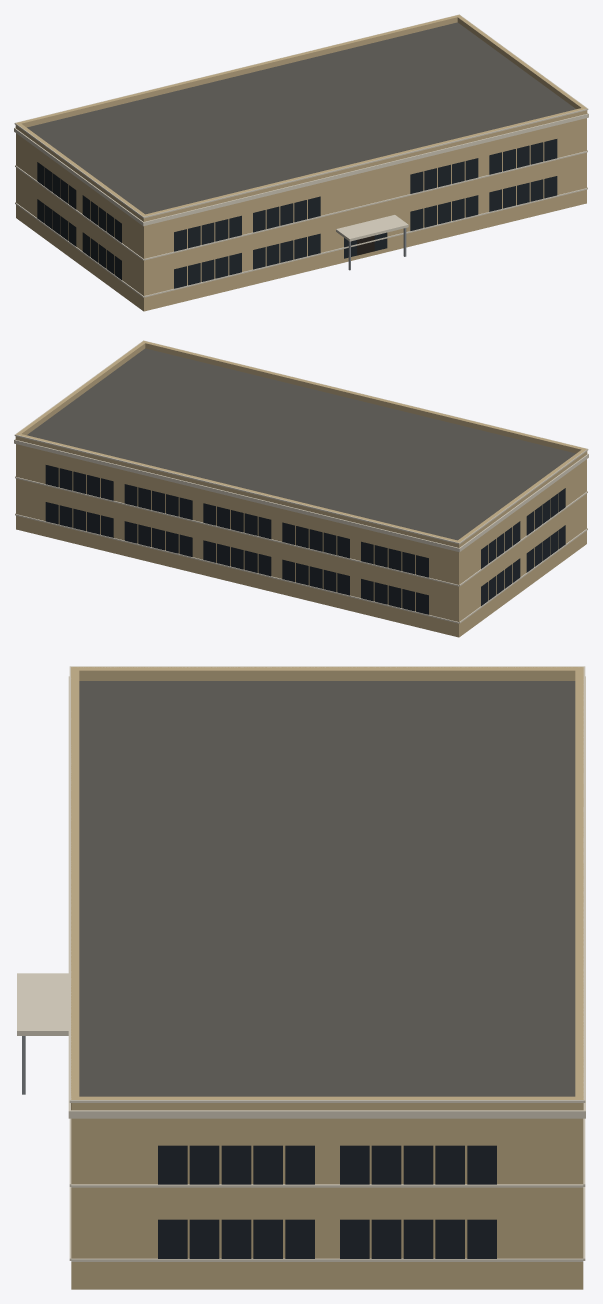
Rendered from shorter-college-1961.glb.
3 views of the same model, one above another, from view 1: azimuth 30°, elevation 25°; view 2: azimuth 150°, elevation 25°; view 3: azimuth 270°, elevation 25° (orthographic). The views are drawn at different scales.
Visible parts, largest first — view 1: shorter_tar, shorter_brick, shorter_glass, shorter_trim; view 2: shorter_tar, shorter_brick, shorter_glass, shorter_trim; view 3: shorter_tar, shorter_brick, shorter_glass, shorter_trim.
Boxes of the visible parts, <box> form: shorter_tar: <box>27,22,575,214</box>; shorter_brick: <box>15,15,587,311</box>; shorter_glass: <box>37,139,557,288</box>; shorter_trim: <box>14,14,588,297</box>; shorter_tar: <box>27,348,575,540</box>; shorter_brick: <box>15,341,587,637</box>; shorter_glass: <box>45,465,565,614</box>; shorter_trim: <box>14,340,588,623</box>; shorter_tar: <box>79,681,575,1096</box>; shorter_brick: <box>71,667,583,1289</box>; shorter_glass: <box>158,1145,496,1258</box>; shorter_trim: <box>17,666,585,1261</box>.
Size of the model in its own units: 45.24 by 9.2 by 25.02.
